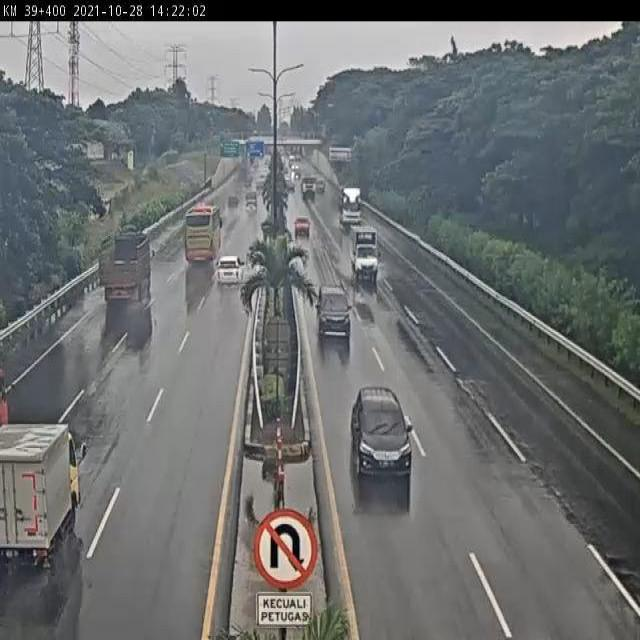big bus: (183, 205, 223, 268)
car: (348, 383, 415, 481), (315, 281, 352, 336), (212, 255, 245, 288), (292, 212, 312, 236)
truck-m-: (100, 233, 153, 304)
truck-s-: (0, 417, 81, 567), (349, 224, 381, 281)
